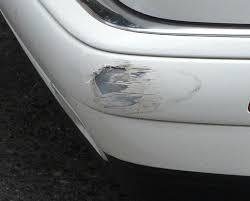RunningBoard-Dent: (47, 36, 247, 133)
